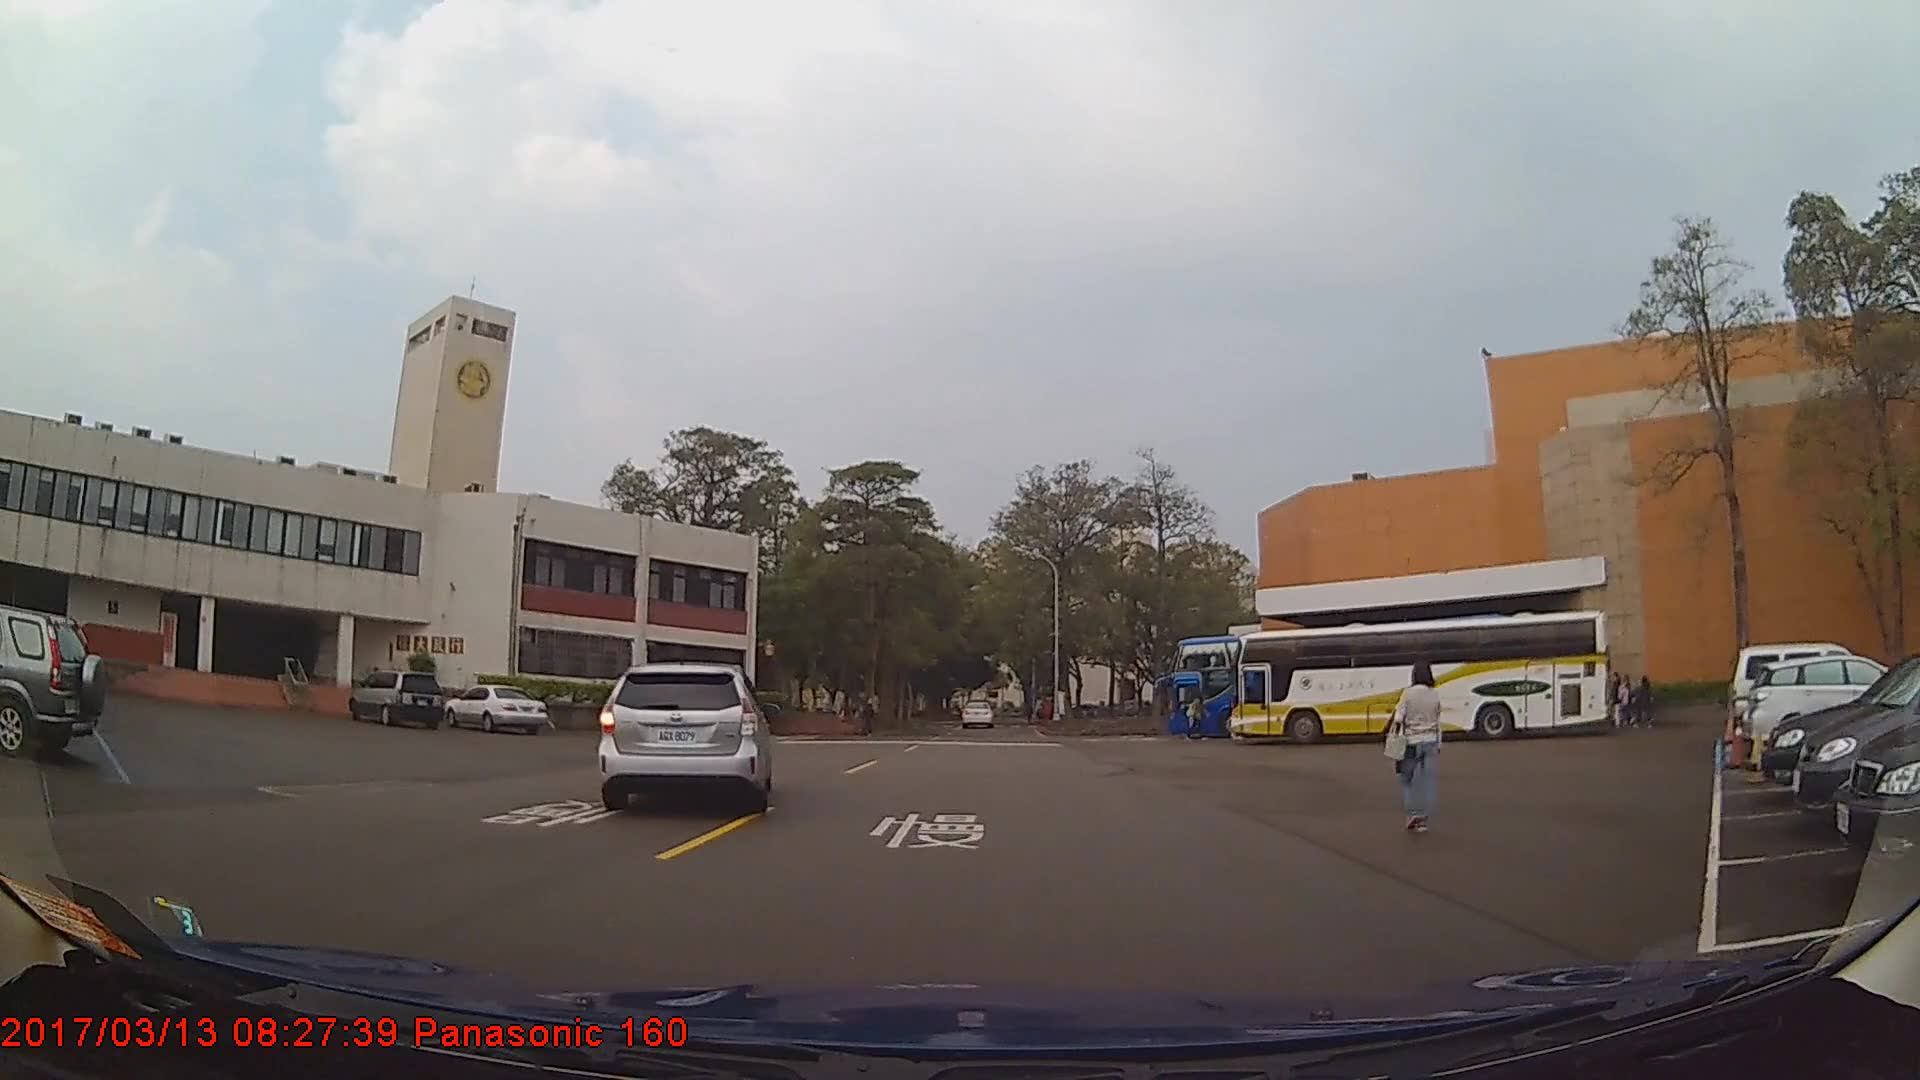pedestrian: (1382, 656, 1445, 838), (1628, 667, 1660, 731)
vehicle: (1226, 609, 1611, 747), (1163, 634, 1482, 738), (598, 659, 772, 811), (1791, 657, 1920, 842), (1741, 654, 1916, 756), (0, 603, 105, 761), (345, 669, 444, 727), (441, 682, 547, 732), (961, 700, 993, 729)
